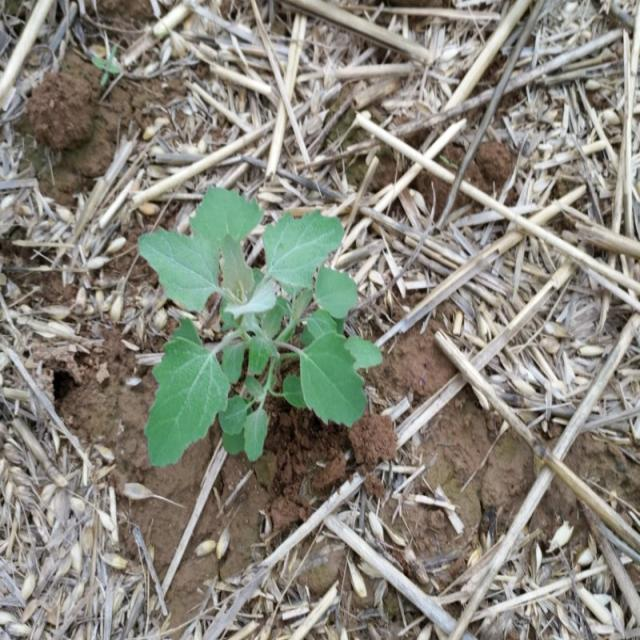goosefoots: (130, 180, 402, 478)
